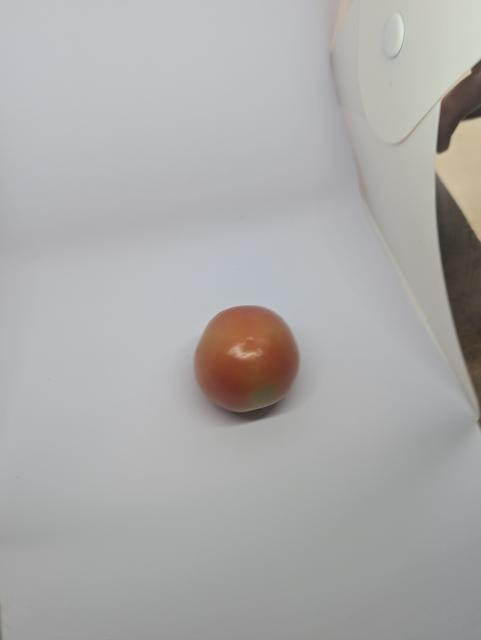turning: (192, 301, 308, 421)
